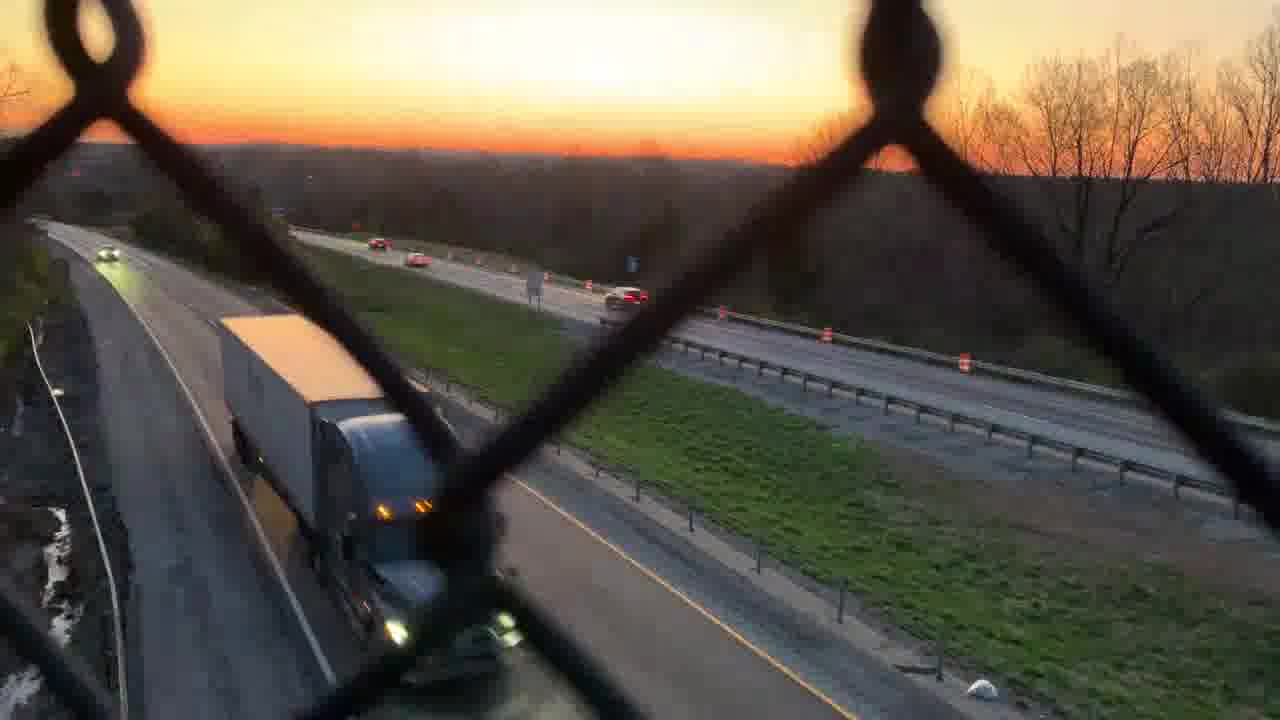heavyTruck: (218, 314, 526, 685)
largeCar: (606, 286, 648, 311)
